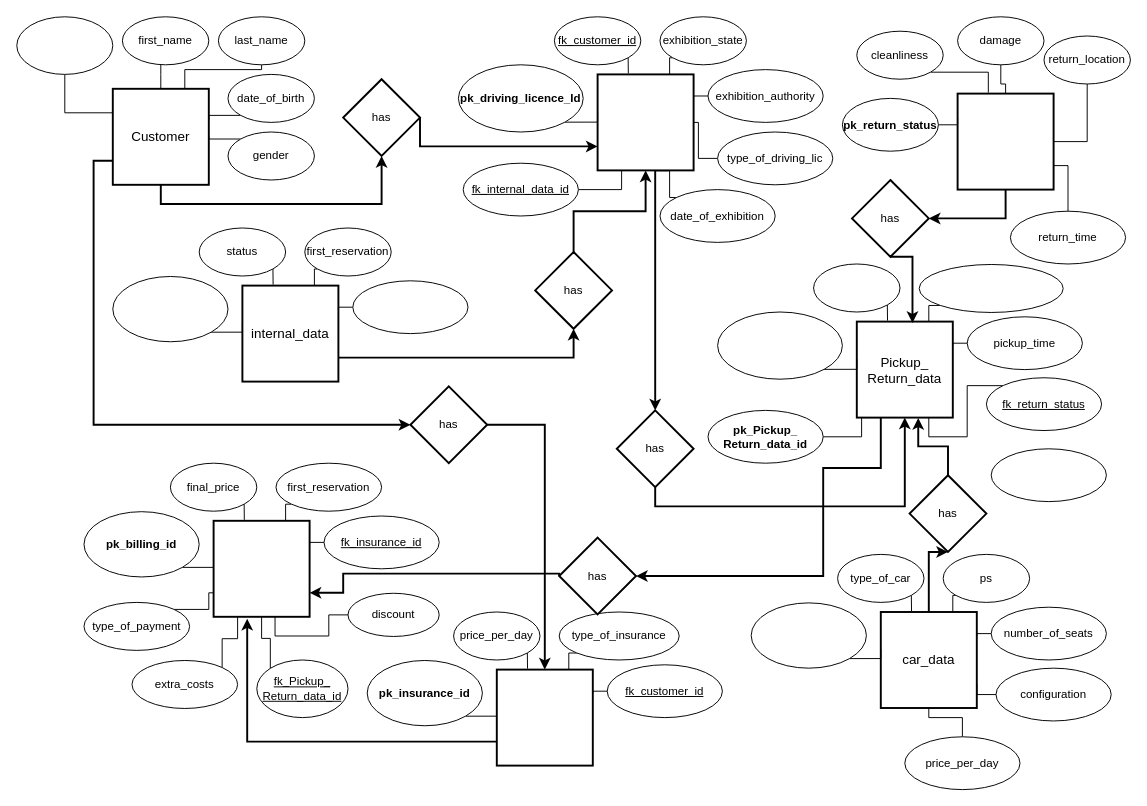
This 1147x806 diagram has some shape labels left out. Here are the shapes that lost their labels. From the top down, the centre of each, then its label:
the point at 64,45: pk_customer_id
the point at 645,122: Driving Licences
the point at 1005,141: return_status
the point at 410,307: last_reservation
the point at 856,287: pickup_location
the point at 990,288: planned_return_location
the point at 170,309: pk_internal_data_id
the point at 779,345: fk_driving_licence_Id
the point at 1048,475: fk_car_data_id
the point at 261,568: billing
the point at 808,635: pk_car_data_id
the point at 544,717: insurance
